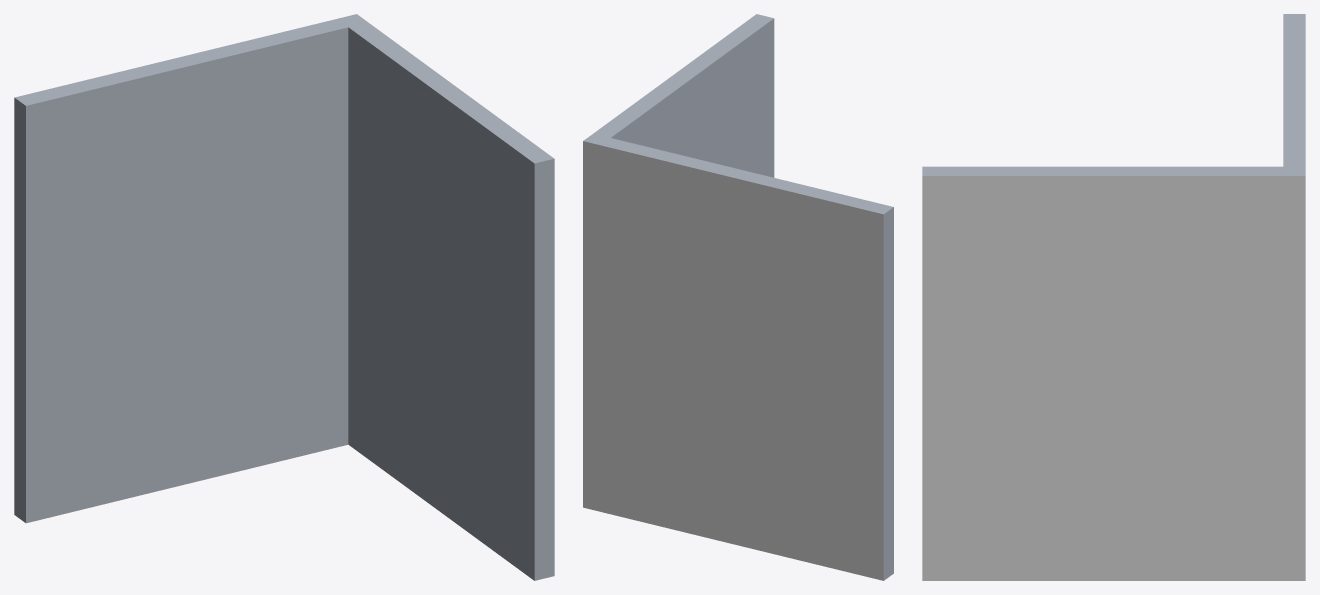
Rendered from Wall1_C5_06.fbx.
3 renders of one model, left to right at view 1: azimuth 30°, elevation 25°; view 2: azimuth 150°, elevation 25°; view 3: azimuth 270°, elevation 25°, orthographic. The views are drawn at different scales.
Visible parts, largest first — view 1: Wall1_C5_06; view 2: Wall1_C5_06; view 3: Wall1_C5_06.
Part boxes in pixels (x1,y1,x2,y2): Wall1_C5_06: (14,14,554,580); Wall1_C5_06: (583,14,893,580); Wall1_C5_06: (922,14,1305,580).
Size of the model in its own units: 258 by 300 by 258.
